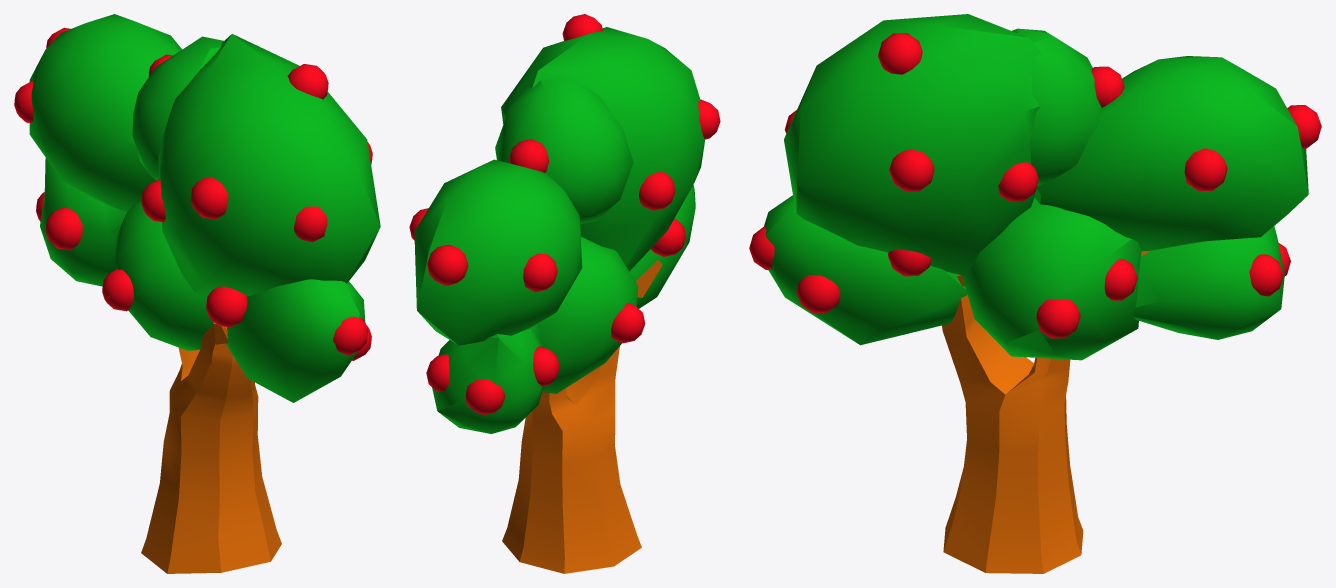
The model's file is daraht2.glb.
The picture shows the model from 3 angles, left to right: view 1: azimuth 30°, elevation 25°; view 2: azimuth 150°, elevation 25°; view 3: azimuth 270°, elevation 25°; orthographic projection. The views are drawn at different scales.
Parts seen in each view (by area): view 1: daraht; view 2: daraht; view 3: daraht.
Part boxes in pixels (<box>): daraht: <box>14,14,380,573</box>; daraht: <box>409,14,720,573</box>; daraht: <box>749,14,1321,573</box>.
Size of the model in its own units: 2.94 by 7.17 by 7.01.
